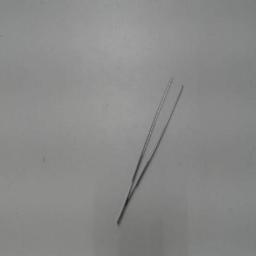Gillies Toothed Dissector: (113, 68, 193, 230)
